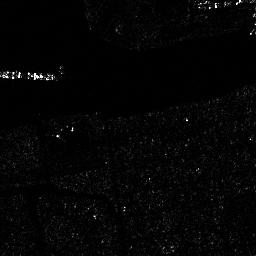ship: (1, 67, 57, 81)
